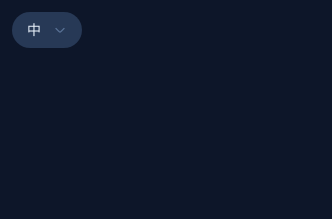
it: form primitives › Select opens a menu, focuses the current option and picks with the keyboard
Press ArrowDown in the button with class "ds-select", box [12, 12, 82, 48]
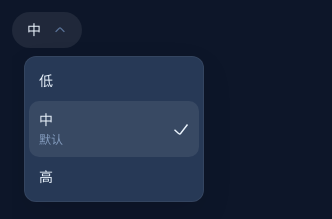
Expected: the button with class "ds-select" is expanded, [12, 12, 82, 48]
Press ArrowDown in the menu item "中 默认", box [29, 101, 199, 157]
Click the menu item "高": [114, 177] box [29, 157, 199, 197]
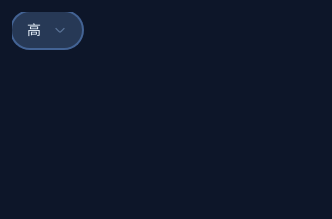
Expected: the menu is gone
